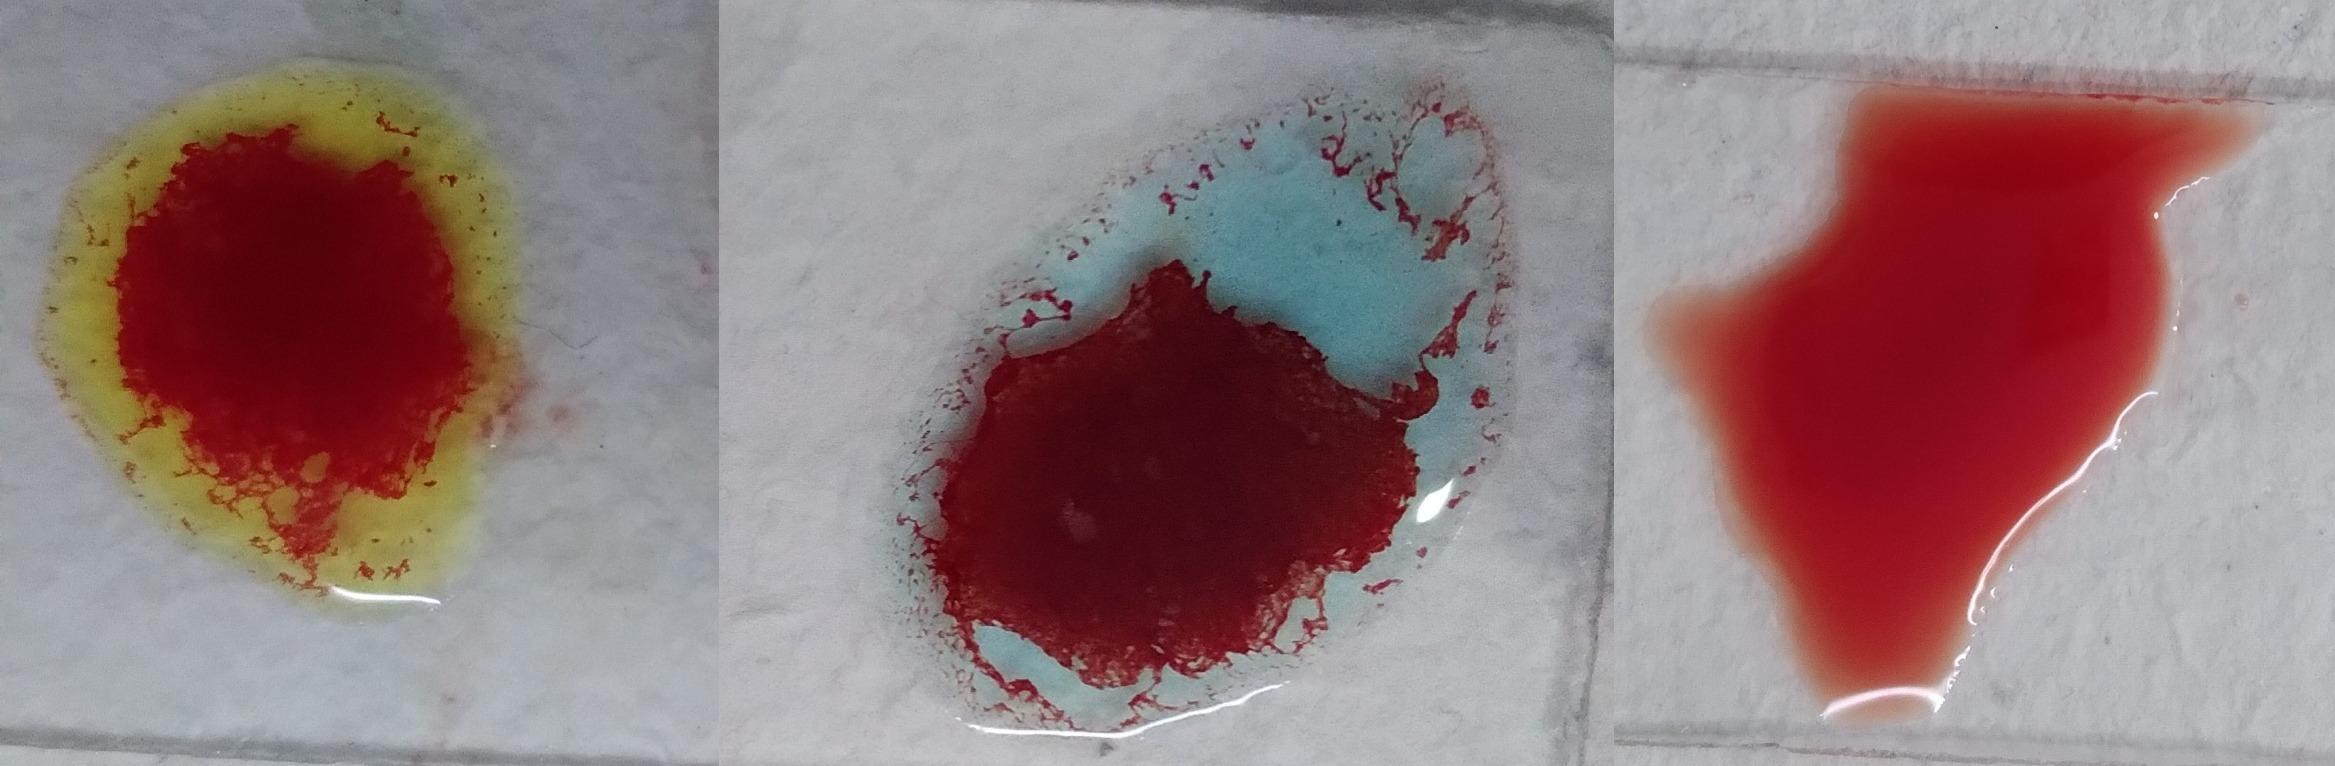A: (923, 86, 1511, 718)
B: (48, 64, 536, 618)
